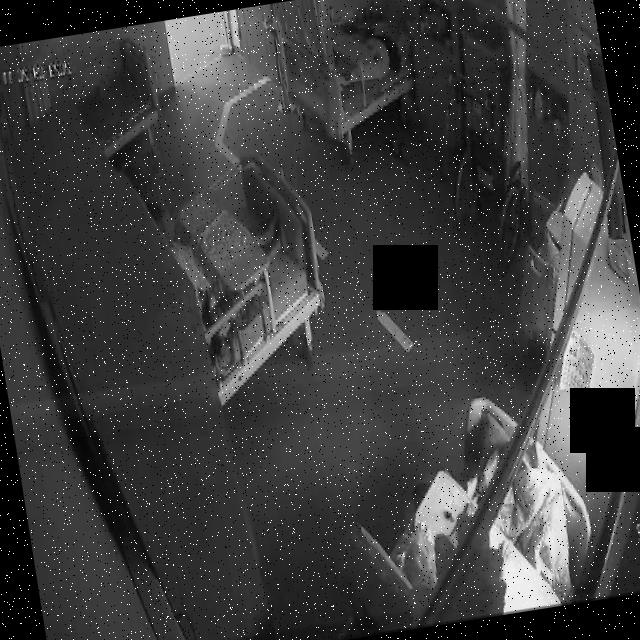bed: (328, 381, 604, 637), (157, 150, 335, 398), (274, 4, 422, 140), (68, 32, 167, 160)
